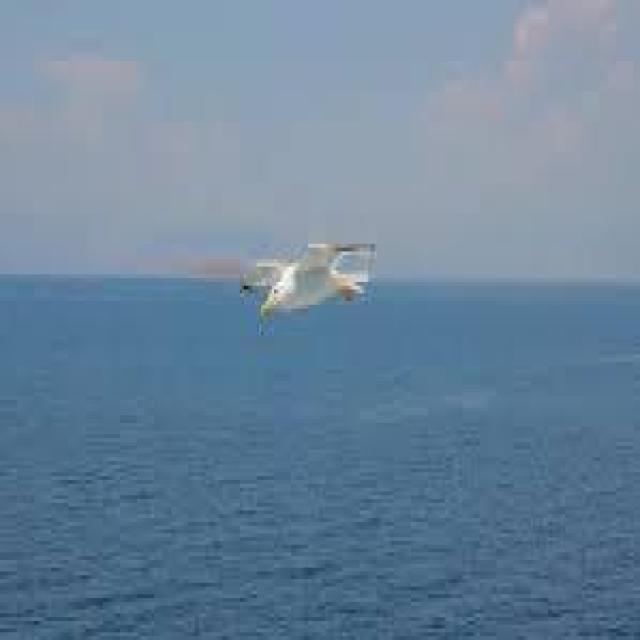bird: (240, 243, 379, 334)
